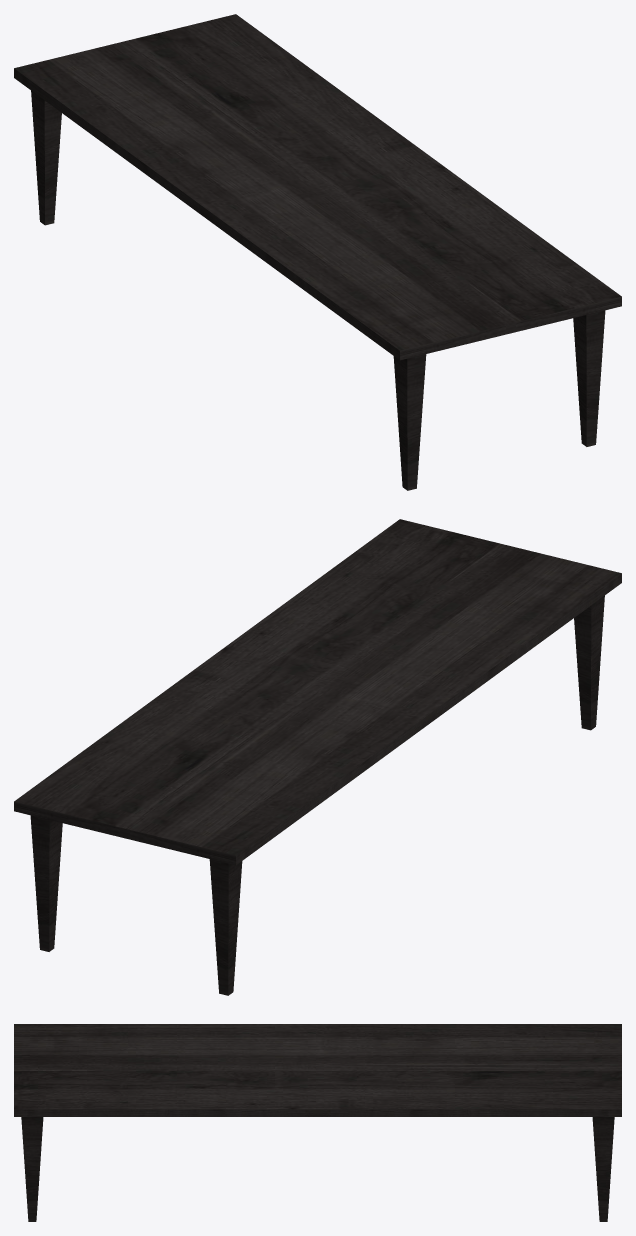
File: BeverageTable.fbx
The picture shows the model from 3 angles, top to bottom: view 1: azimuth 30°, elevation 25°; view 2: azimuth 150°, elevation 25°; view 3: azimuth 270°, elevation 25°; orthographic projection. The views are drawn at different scales.
Visible parts, largest first — view 1: Cube; view 2: Cube; view 3: Cube.
Boxes of the visible parts, x1,y1,x2,y2 form: Cube: (14, 14, 621, 490); Cube: (14, 519, 621, 995); Cube: (14, 1024, 621, 1221).
Bounding box in the file's own units: 318 × 207 × 957.
